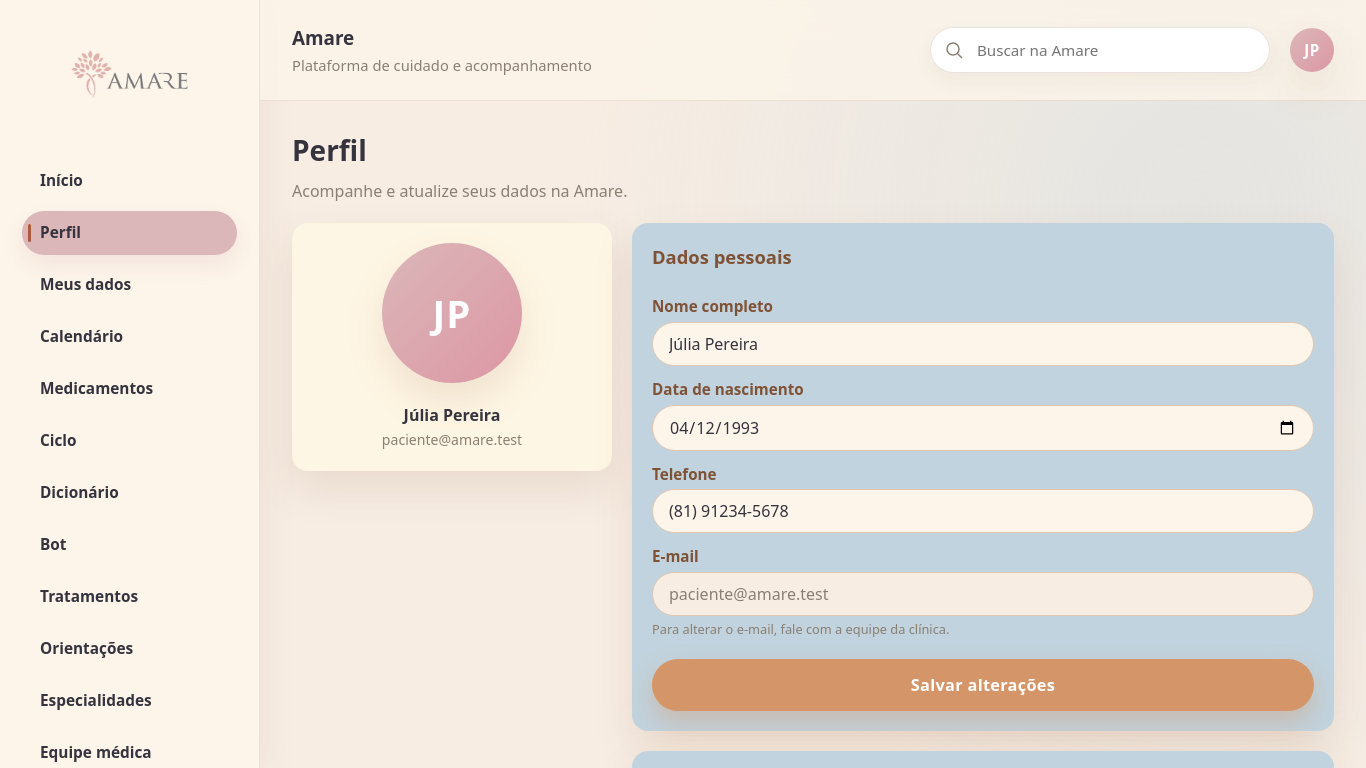
Test: Polimento UX do perfil › 3. campo telefone aplica mascara com 11 digitos
Replace the text in the field with test id "perfil-telefone" with "81999998888" at (983, 511), box [652,489,1314,533]
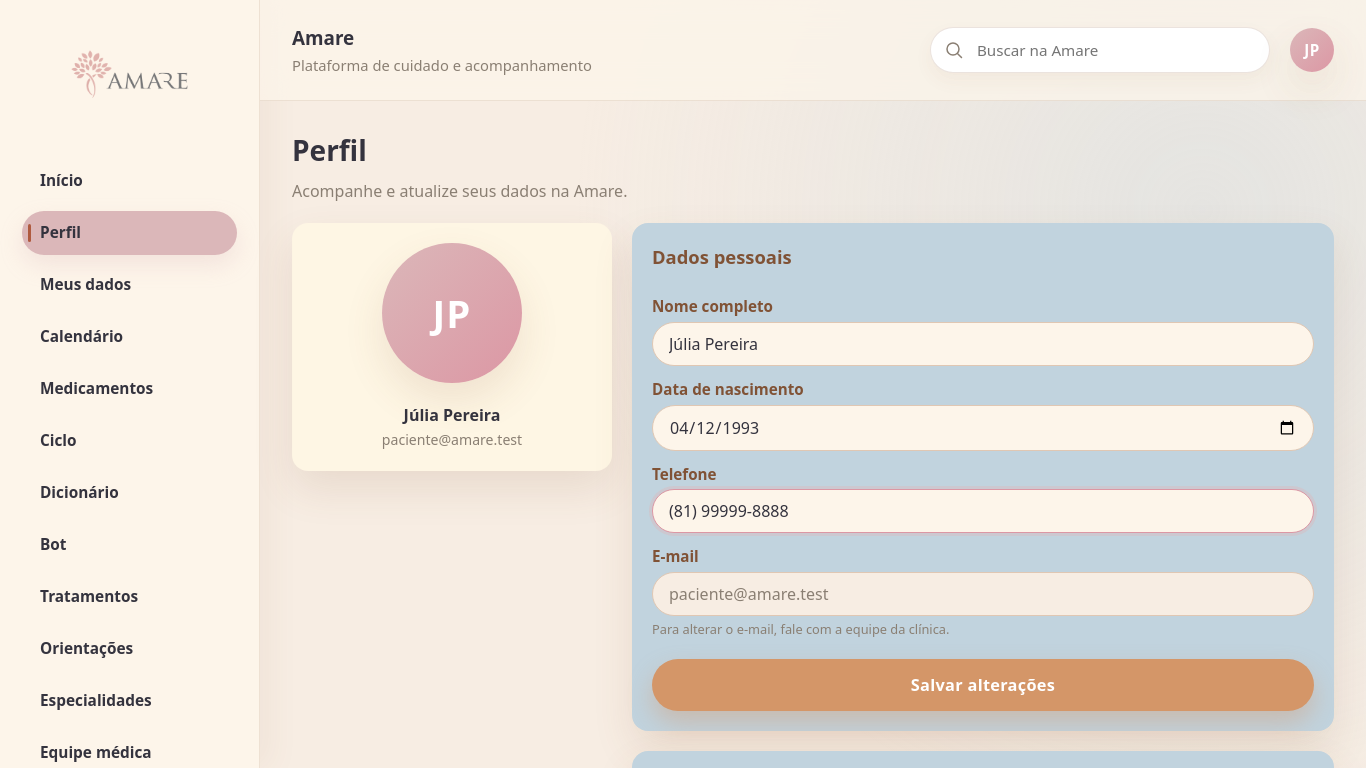
Result: the field with test id "perfil-telefone" holds "(81) 99999-8888" at [652,489,1314,533]
